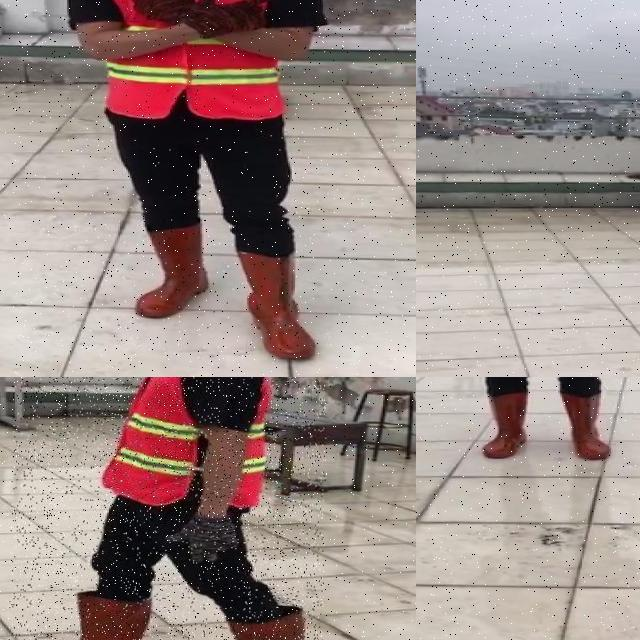boots: (236, 252, 316, 358), (136, 224, 212, 318), (19, 591, 148, 640), (555, 390, 618, 460), (188, 609, 307, 640), (478, 390, 530, 458)
vest: (91, 0, 288, 122), (103, 377, 270, 510)
